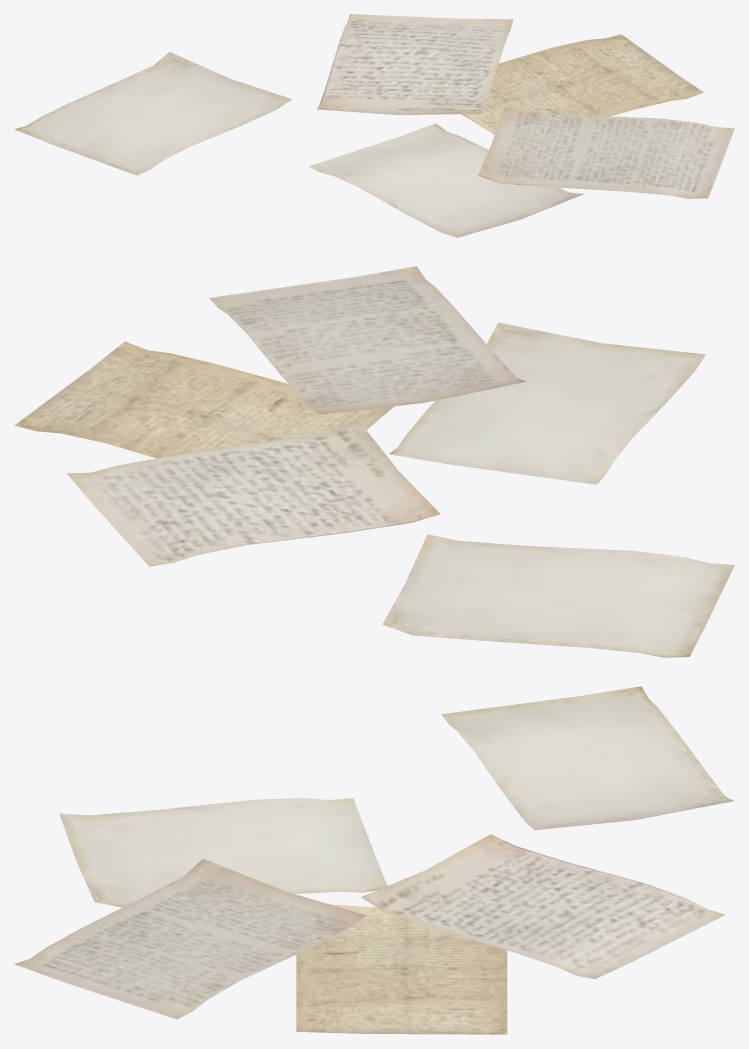
File: SM_papers_floor_01_7e74e3.glb
The picture shows the model from 3 angles, top to bottom: view 1: azimuth 30°, elevation 25°; view 2: azimuth 150°, elevation 25°; view 3: azimuth 270°, elevation 25°; orthographic projection. The views are drawn at different scales.
Bounding box in the file's own units: 0.8123 × 0.0168 × 0.7152.
1 material, 1 textured.
